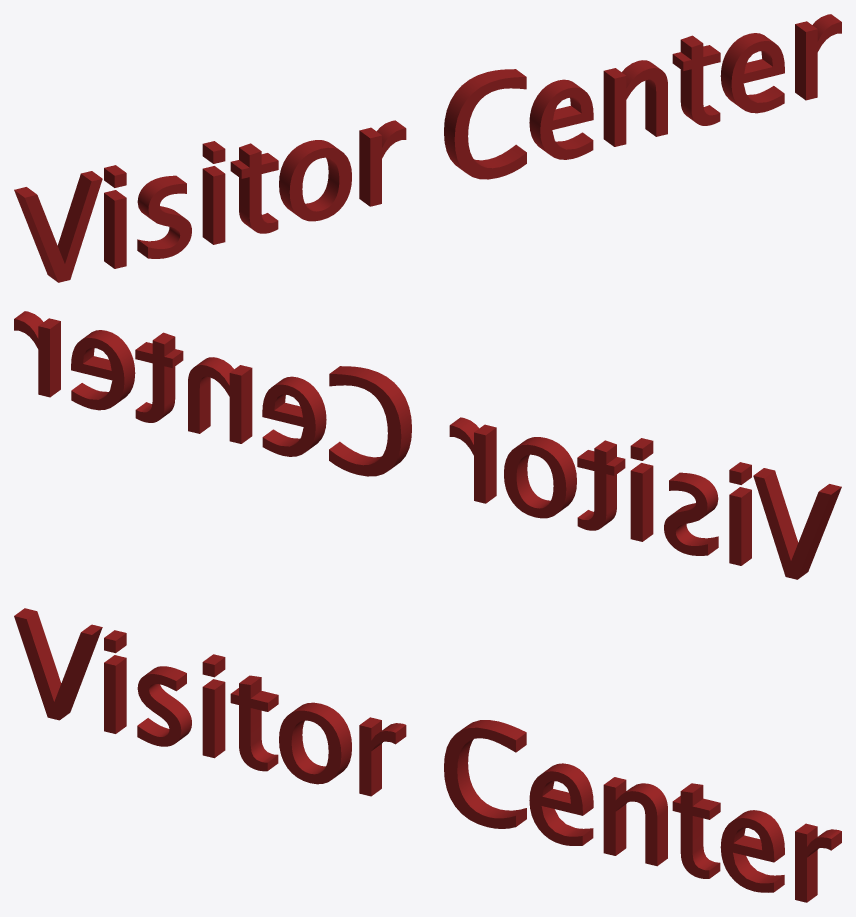
Rendered from Visit.fbx.
3 views of the same model, one above another, from view 1: azimuth 30°, elevation 25°; view 2: azimuth 150°, elevation 25°; view 3: azimuth 330°, elevation 25° (orthographic).
Parts seen in each view (by area): view 1: typeMesh1; view 2: typeMesh1; view 3: typeMesh1.
Boxes of the visible parts, x1,y1,x2,y2 form: typeMesh1: (14,14,841,282); typeMesh1: (14,311,841,579); typeMesh1: (14,608,841,902).
Size of the model in its own units: 109 by 12.54 by 2.5.
